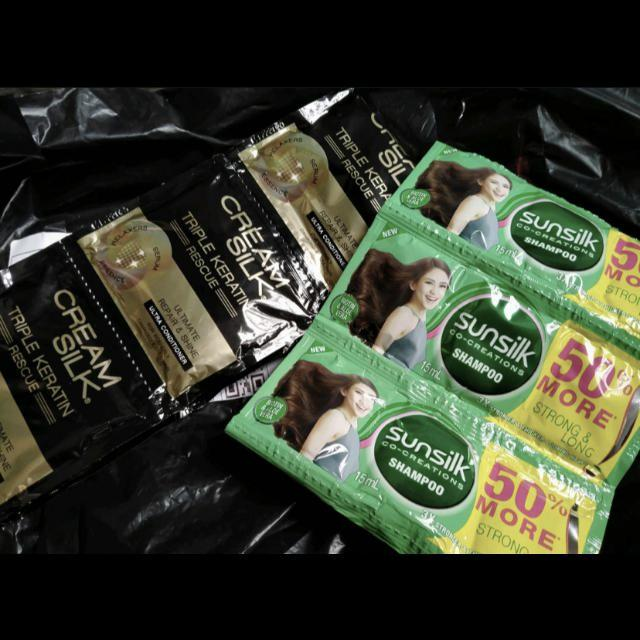plastic_sachet: (226, 312, 616, 554), (316, 214, 640, 486), (66, 153, 328, 417), (379, 141, 640, 361), (0, 238, 177, 523), (226, 88, 417, 302)
